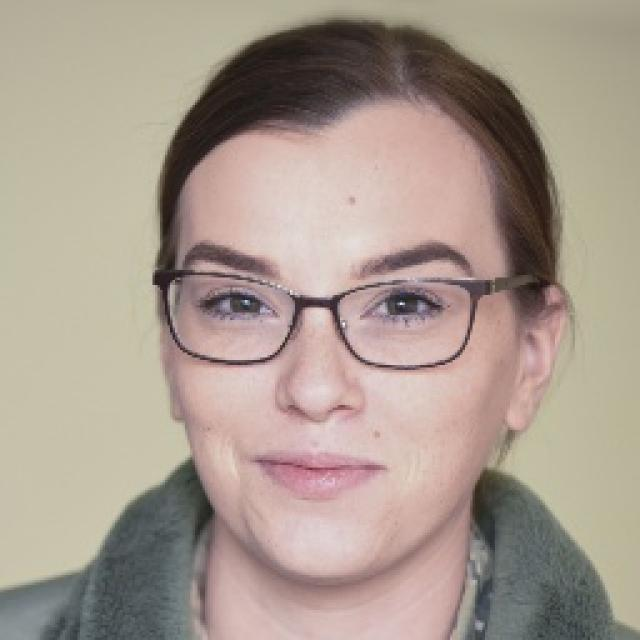glasses: (148, 246, 540, 377)
